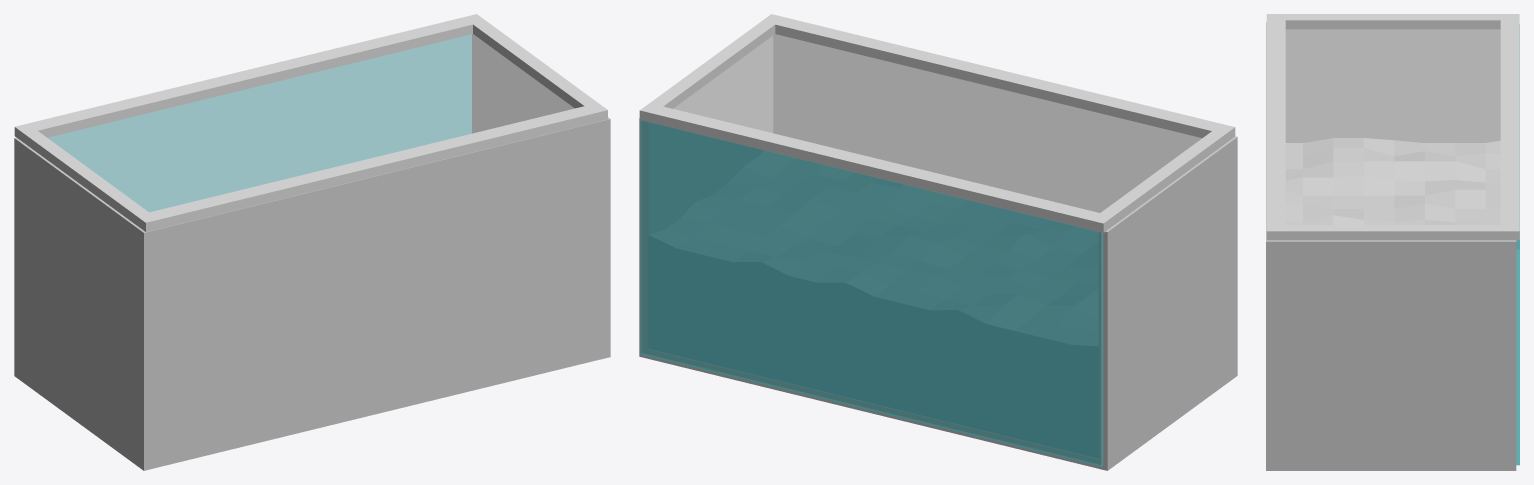
The model's file is Linnmon Enclosure.fbx.
3 renders of one model, left to right at view 1: azimuth 30°, elevation 25°; view 2: azimuth 150°, elevation 25°; view 3: azimuth 270°, elevation 25°, orthographic. The views are drawn at different scales.
Visible parts, largest first — view 1: Back, Lid, Front, Right, Left, Floor; view 2: Front, Lid, Back, Right, Left, Floor; view 3: Left, Lid, Right, Bedding, Front.
Part boxes in pixels (x1,y1,x2,y2): Back: [153, 121, 601, 459]; Lid: [14, 14, 607, 231]; Front: [48, 34, 471, 211]; Right: [14, 137, 152, 470]; Left: [472, 34, 610, 358]; Floor: [153, 350, 601, 468]; Front: [640, 120, 1103, 466]; Lid: [639, 14, 1235, 232]; Back: [773, 34, 1201, 212]; Right: [1098, 136, 1237, 470]; Left: [639, 36, 773, 358]; Floor: [648, 349, 1098, 468]; Left: [1266, 237, 1516, 470]; Lid: [1266, 14, 1519, 240]; Right: [1266, 22, 1500, 142]; Bedding: [1285, 138, 1500, 224]; Front: [1516, 24, 1519, 465].
Bounding box in the file's own units: 10394 × 5263 × 5078.
